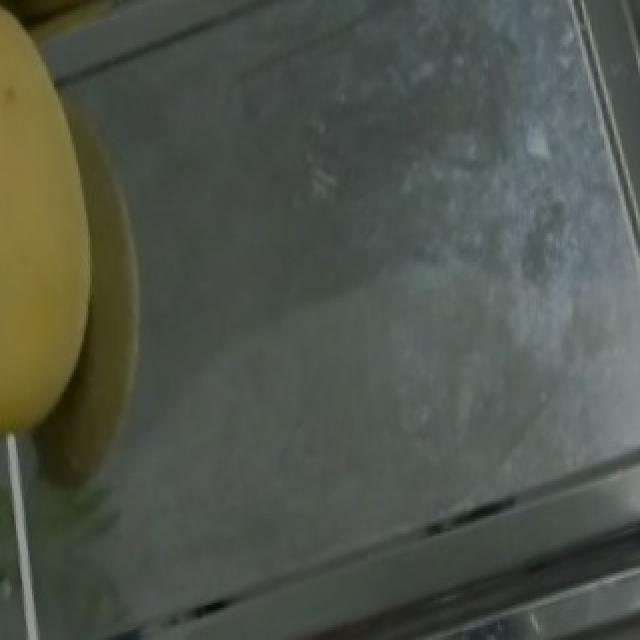fruit: (0, 2, 206, 402)
